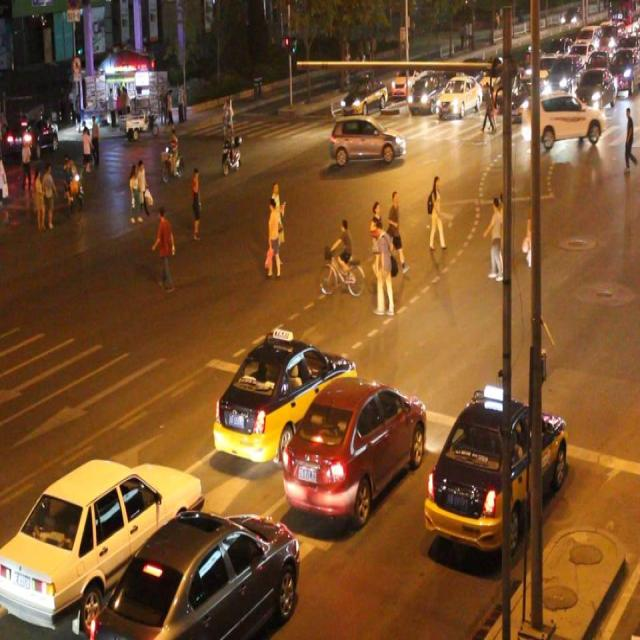car: (1, 456, 203, 625), (98, 511, 299, 640), (423, 395, 567, 550), (280, 377, 424, 515), (211, 327, 353, 456), (518, 94, 604, 141), (327, 114, 406, 164), (435, 72, 478, 116), (338, 76, 387, 111), (408, 70, 443, 114)
